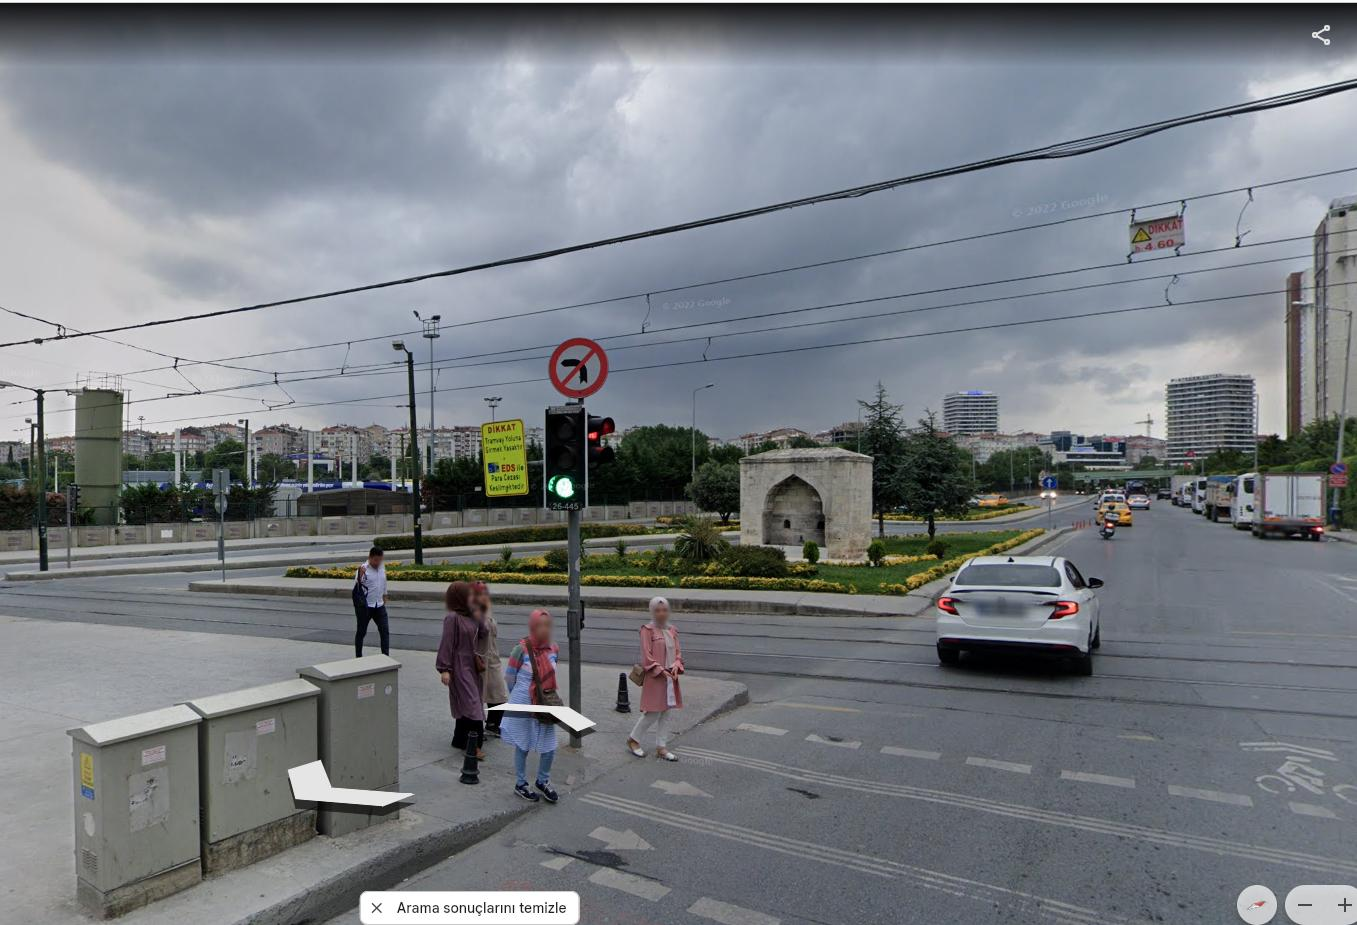greenlight: (547, 404, 586, 498)
leftturnsareforbidden: (547, 333, 608, 395)
